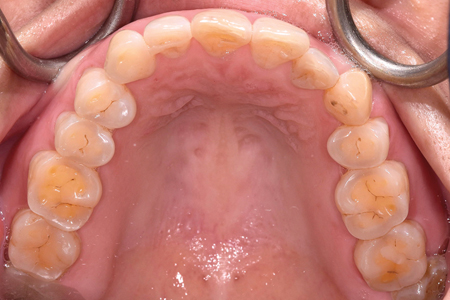UL1BC_decay: (328, 125, 386, 166)
UL1M_decay: (358, 232, 427, 290)
UL2BC_decay: (338, 167, 409, 232)
ULCI_healthy: (251, 15, 303, 67)
ULC_decay: (328, 70, 376, 123)
ULLI_healthy: (296, 52, 338, 90)
UR1BC_decay: (76, 69, 135, 127)
UR1M_decay: (25, 155, 100, 228)
UR2BC_decay: (53, 115, 115, 162)
UR2M_decay: (13, 216, 79, 277)
URCI_healthy: (192, 11, 251, 59)
URC_healthy: (108, 30, 157, 77)
URLI_healthy: (148, 16, 194, 54)
